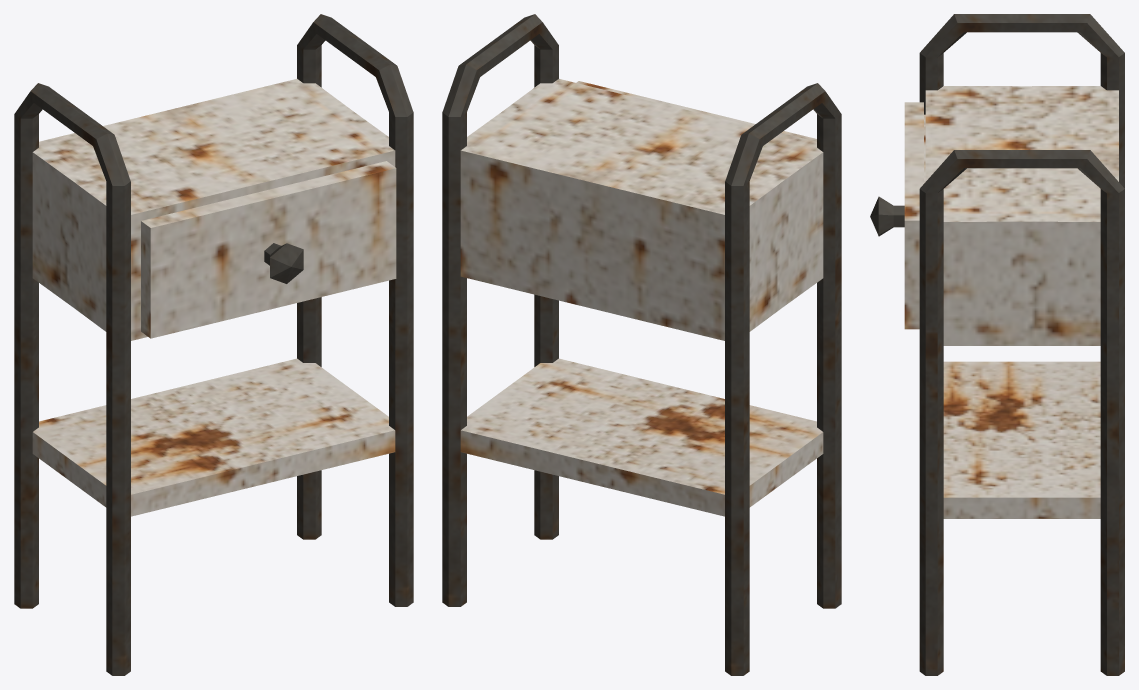
Rendered from Nightstand.fbx.
3 renders of one model, left to right at view 1: azimuth 30°, elevation 25°; view 2: azimuth 150°, elevation 25°; view 3: azimuth 270°, elevation 25°, orthographic.
Visible parts, largest first — view 1: Nightstand, Drawer; view 2: Nightstand, Drawer; view 3: Nightstand, Drawer.
Boxes of the visible parts, box(x1,y1,x2,y2) form: Nightstand: box(14, 14, 413, 675); Drawer: box(141, 161, 396, 338); Nightstand: box(442, 14, 841, 675); Drawer: box(576, 81, 816, 141); Nightstand: box(919, 14, 1124, 675); Drawer: box(870, 102, 925, 329).
Size of the model in its own units: 58.02 by 97.5 by 43.17.
